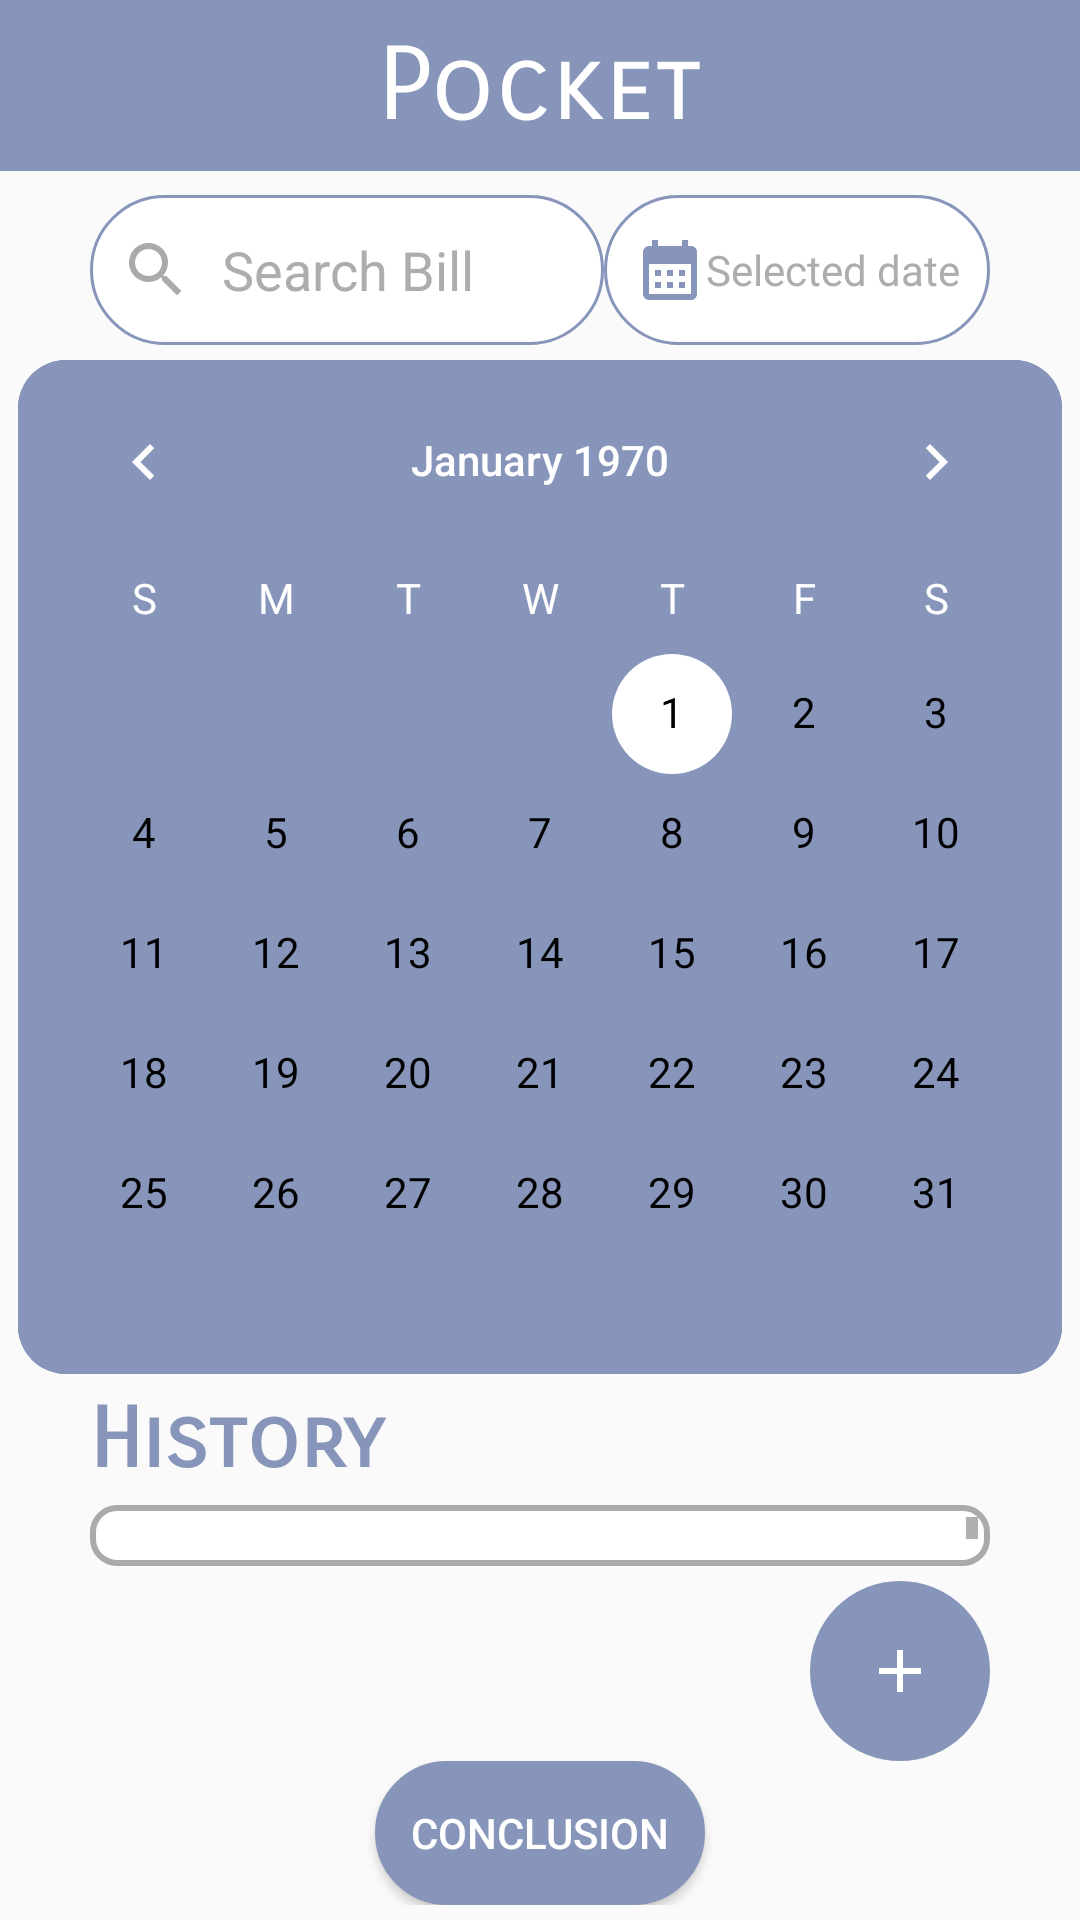

Point at icon controls on the screen. Image size 1080×1920, points as (x,y).
Add income: (900,1671)
